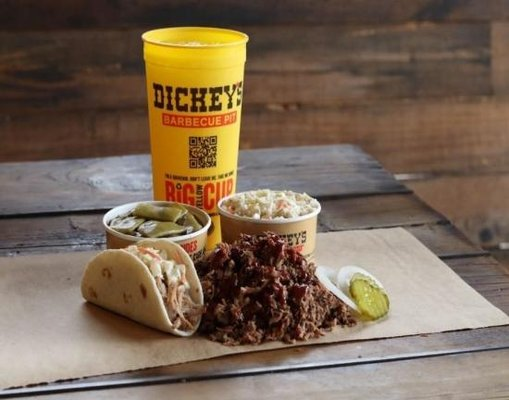pizza: (217, 189, 320, 261)
sushi: (103, 201, 213, 258)
